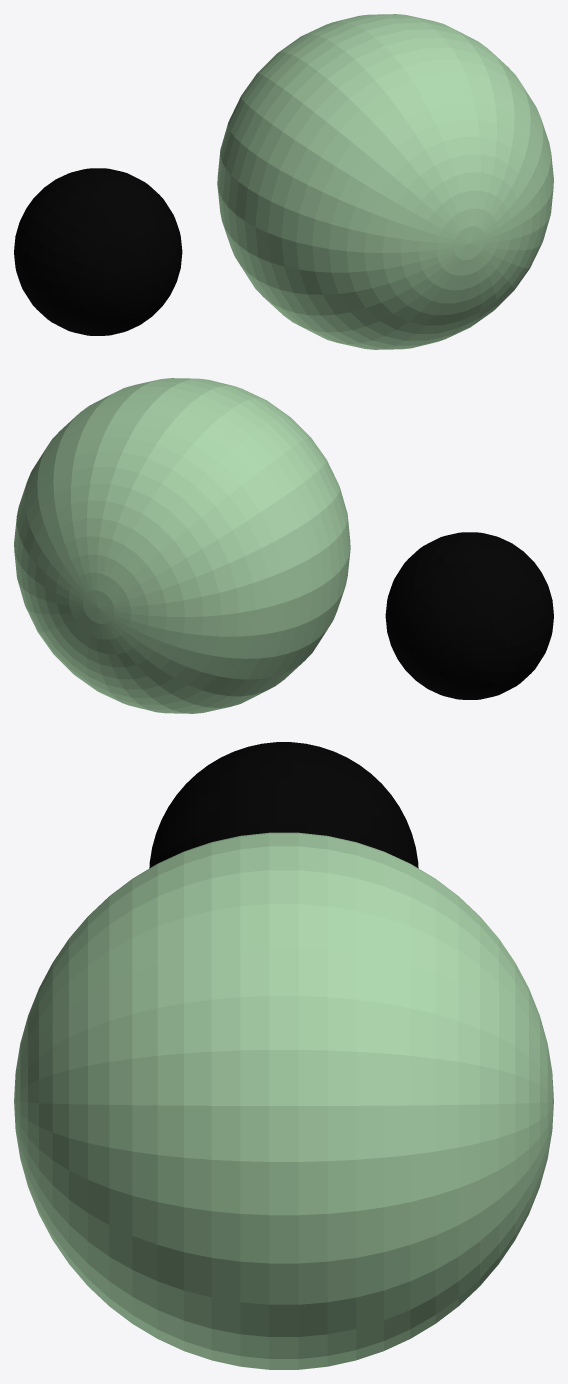
The model's file is Hydrofluoric Acid.glb.
3 views of the same model, one above another, from view 1: azimuth 30°, elevation 25°; view 2: azimuth 150°, elevation 25°; view 3: azimuth 270°, elevation 25° (orthographic). The views are drawn at different scales.
Visible parts, largest first — view 1: world; view 2: world; view 3: world.
Part boxes in pixels (x1,y1,x2,y2): world: (14, 14, 553, 349); world: (14, 378, 553, 713); world: (14, 742, 553, 1369).
Bounding box in the file's own units: 1.73 × 0.9931 × 1.
